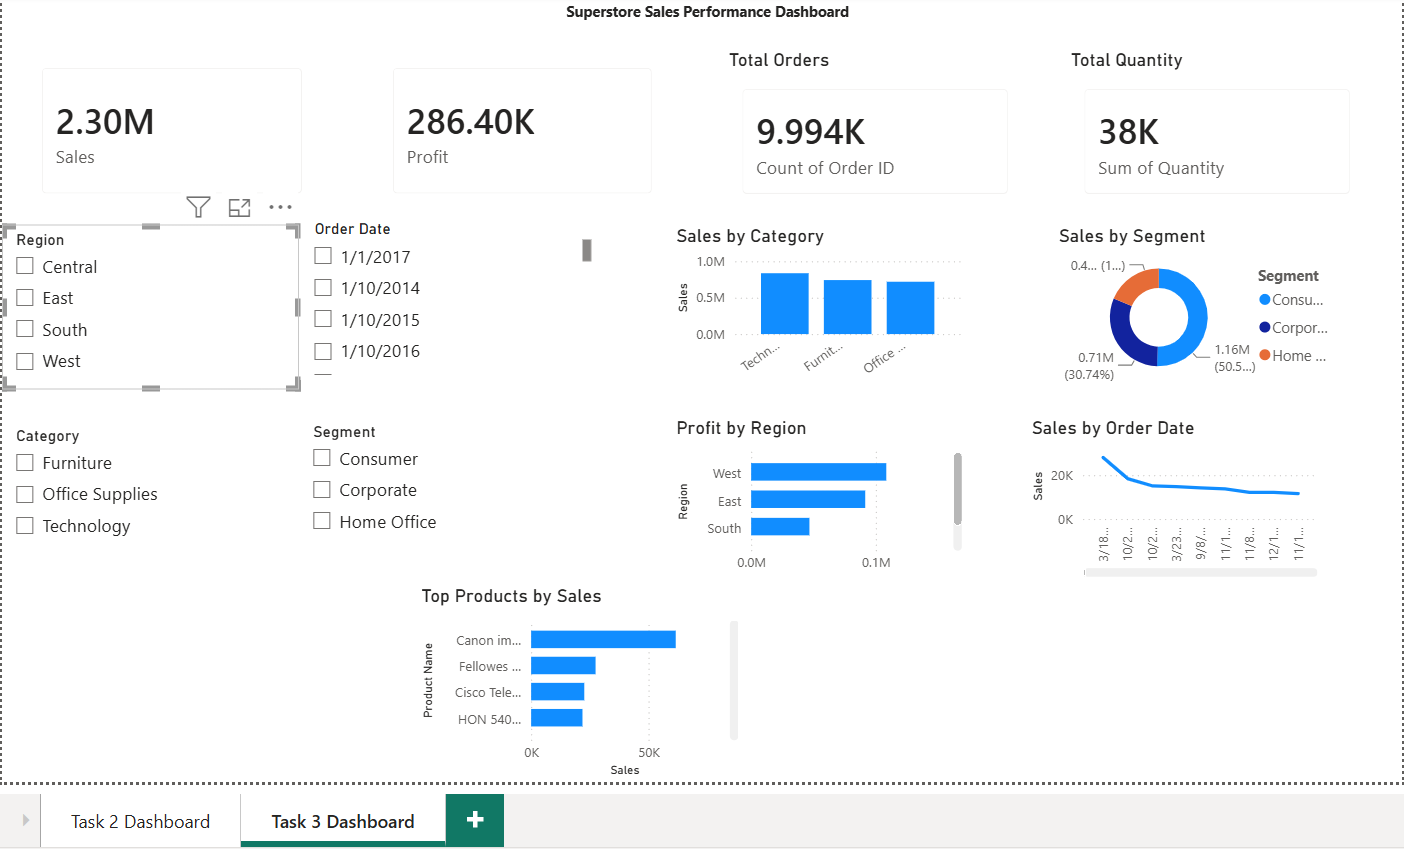

The dashboard page shown, as its layout file describes it:
{"tool":"powerbi","page":{"name":"Task 3 Dashboard","canvas":[1280,720],"ordinal":1},"visuals":[{"type":"textbox","box":[10.6,0,1268.9,50],"z":0},{"type":"cardVisual","fields":{"Data":["Sum(Sample - Superstore.Sales)"]},"box":[19.7,50,272.6,149.9],"z":1000},{"type":"cardVisual","fields":{"Data":["Sum(Sample - Superstore.Profit)"]},"box":[340.7,50,271,149.9],"z":2000},{"type":"cardVisual","title":"Total Quantity","fields":{"Data":["Sum(Sample - Superstore.Quantity)"]},"box":[973.6,50,277.1,149.9],"z":3000},{"type":"cardVisual","title":"Total Orders","fields":{"Data":["CountNonNull(Sample - Superstore.Order ID)"]},"box":[660.2,50,277.1,149.9],"z":4000},{"type":"slicer","fields":{"Values":["Sample - Superstore.Region"]},"box":[0,210.5,271,149.9],"z":5000},{"type":"slicer","fields":{"Values":["Sample - Superstore.Category"]},"box":[0,389.2,271,149.9],"z":6000},{"type":"slicer","fields":{"Values":["Sample - Superstore.Segment"]},"box":[271,386.1,271,149.9],"z":7000},{"type":"slicer","fields":{"Values":["Sample - Superstore.Order Date"]},"box":[272.6,199.9,271,151.4],"z":8000},{"type":"clusteredColumnChart","fields":{"Category":["Sample - Superstore.Category"],"Y":["Sum(Sample - Superstore.Sales)"]},"box":[611.7,210.5,271,149.9],"z":9000},{"type":"donutChart","fields":{"Category":["Sample - Superstore.Segment"],"Y":["Sum(Sample - Superstore.Sales)"]},"box":[961.5,210.5,271,149.9],"z":10000},{"type":"barChart","fields":{"Category":["Sample - Superstore.Region"],"Y":["Sum(Sample - Superstore.Profit)"]},"box":[611.7,386.1,271,151.4],"z":11000},{"type":"lineChart","fields":{"Category":["Sample - Superstore.Order Date"],"Y":["Sum(Sample - Superstore.Sales)"]},"box":[937.3,386.1,271,151.4],"z":12000},{"type":"clusteredBarChart","title":"Top Products by Sales","fields":{"Category":["Sample - Superstore.Product Name"],"Y":["Sum(Sample - Superstore.Sales)"]},"box":[378.6,539.1,299.8,180.2],"z":12001}]}

Visuals, with their boxes on the page's 1280x720 design canvas (x1, y1, x2, y2). These are canvas units, not pixel positions in the 1404x849 screenshot, which may show the page scaled, cropped or inside an application window:
textbox: (11,0,1280,50)
cardVisual - Sum(Sample - Superstore.Sales): (20,50,292,200)
cardVisual - Sum(Sample - Superstore.Profit): (341,50,612,200)
"Total Quantity" cardVisual: (974,50,1251,200)
"Total Orders" cardVisual: (660,50,937,200)
slicer - Sample - Superstore.Region: (0,210,271,360)
slicer - Sample - Superstore.Category: (0,389,271,539)
slicer - Sample - Superstore.Segment: (271,386,542,536)
slicer - Sample - Superstore.Order Date: (273,200,544,351)
clusteredColumnChart - Sample - Superstore.Category x Sum(Sample - Superstore.Sales): (612,210,883,360)
donutChart - Sample - Superstore.Segment x Sum(Sample - Superstore.Sales): (962,210,1232,360)
barChart - Sample - Superstore.Region x Sum(Sample - Superstore.Profit): (612,386,883,538)
lineChart - Sample - Superstore.Order Date x Sum(Sample - Superstore.Sales): (937,386,1208,538)
"Top Products by Sales" clusteredBarChart: (379,539,678,719)
